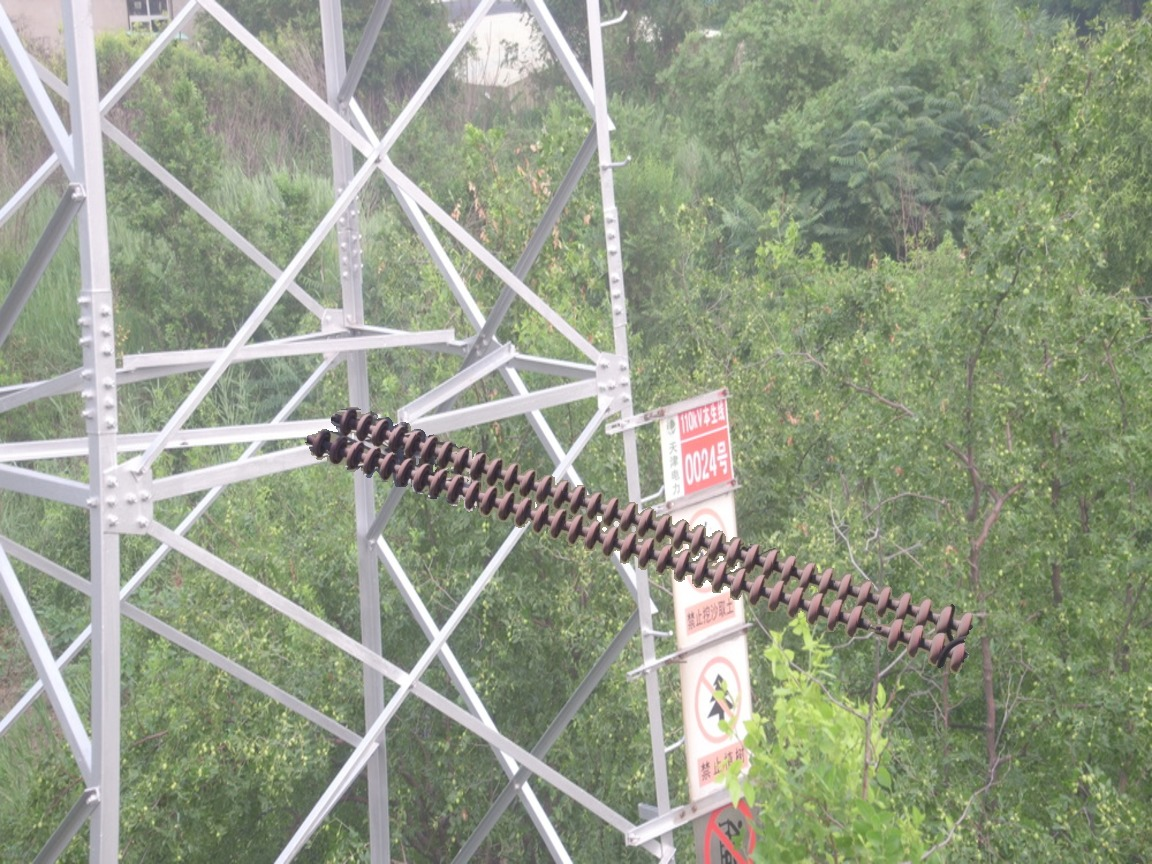defect: (841, 603, 906, 652)
